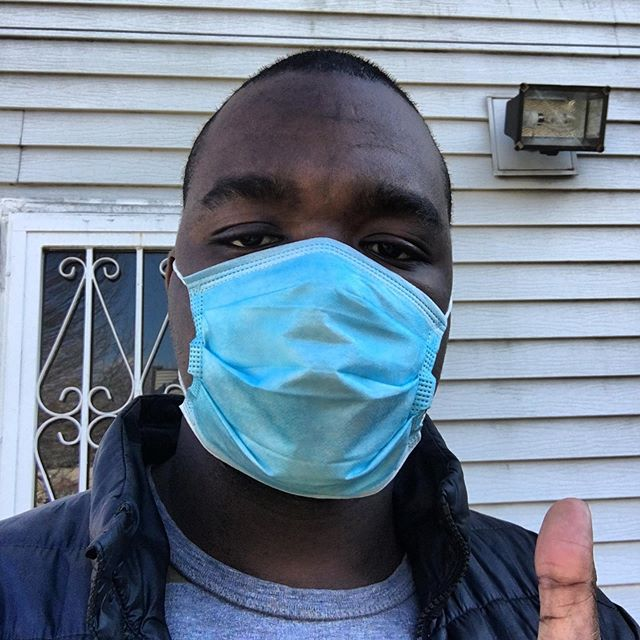surgical: (165, 235, 460, 503)
